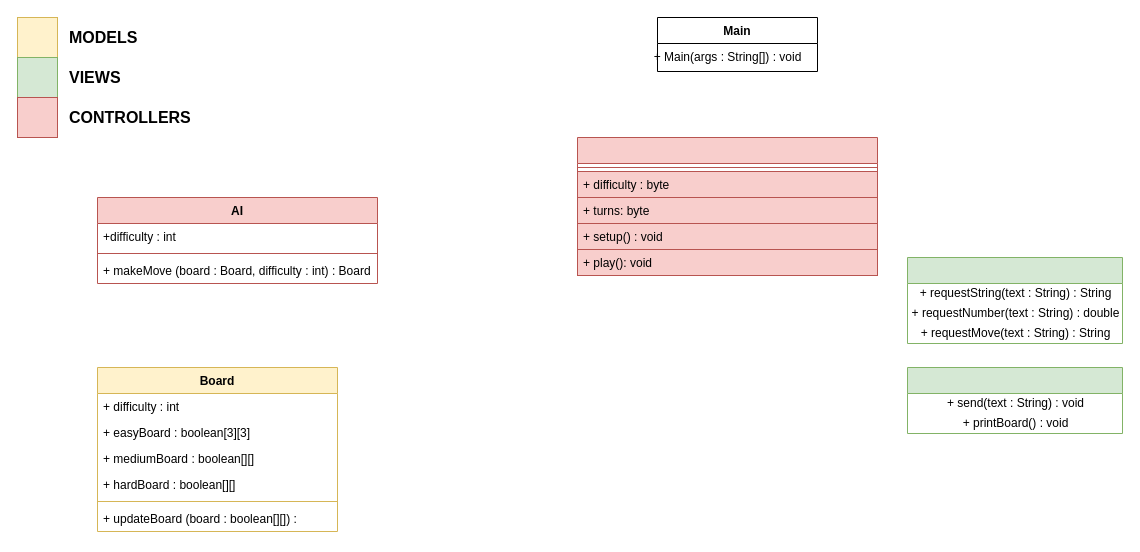
Image size: 1140x552. Some labels were removed from this diagram. Here are the shapes that lost their labels. From the top down, the box of each, then its label:
(576, 136, 878, 276): Controller
(906, 256, 1122, 344): Input
(906, 366, 1122, 434): Output
